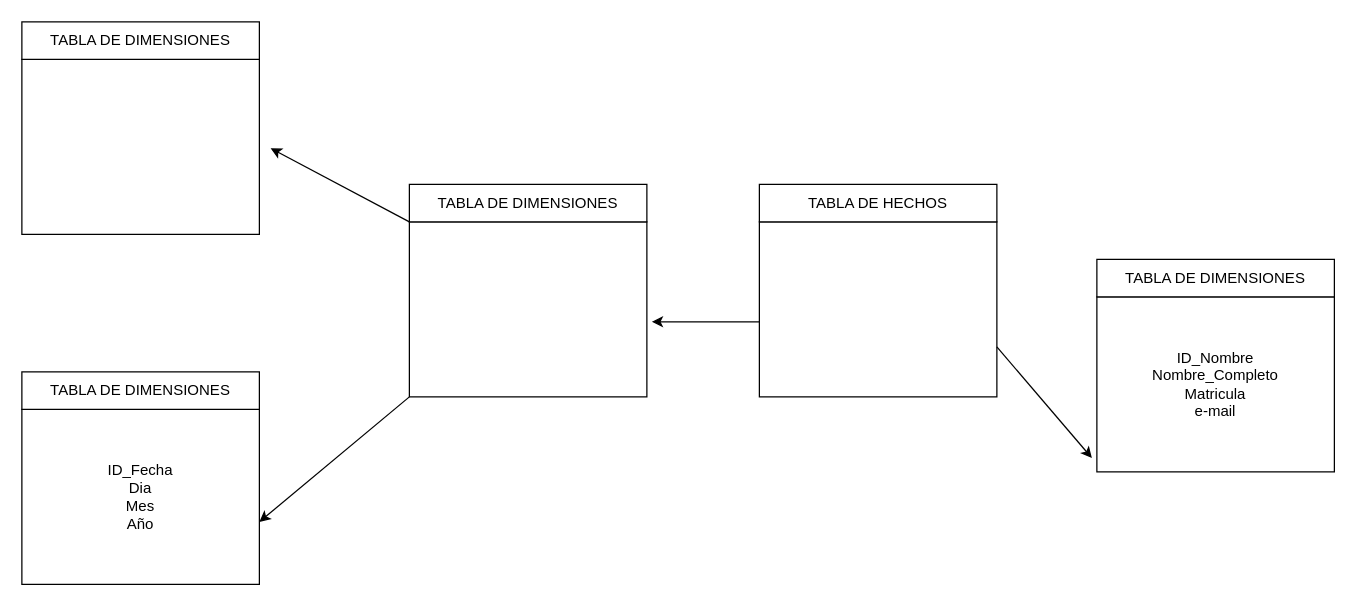
The diagram is 1356 pixels wide and 606 high, and some of its shapes have lost their labels. The shapes that lost their labels are listed below. From the top down, each one's centre as x and y in pixels, then its label:
At (140,146): "ID_Folio Tipo_Practica Materiales Descripcion".
At (527,309): "ID_Practica No. Practica Calificacion Folio_ID Fecha_ID".
At (877,309): "ID_Taller Practica_ID ID_Nombre Nombre_Taler Profesor(a)".
